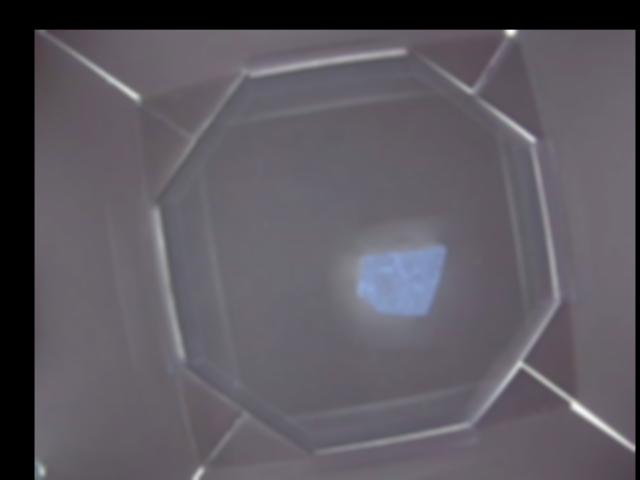China: (360, 243, 448, 316)
